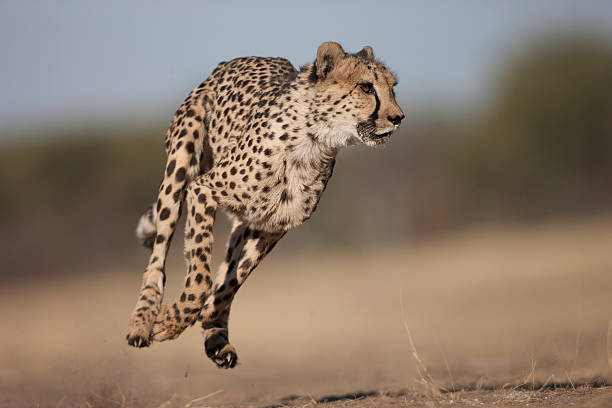cheetah: (297, 35, 425, 159)
